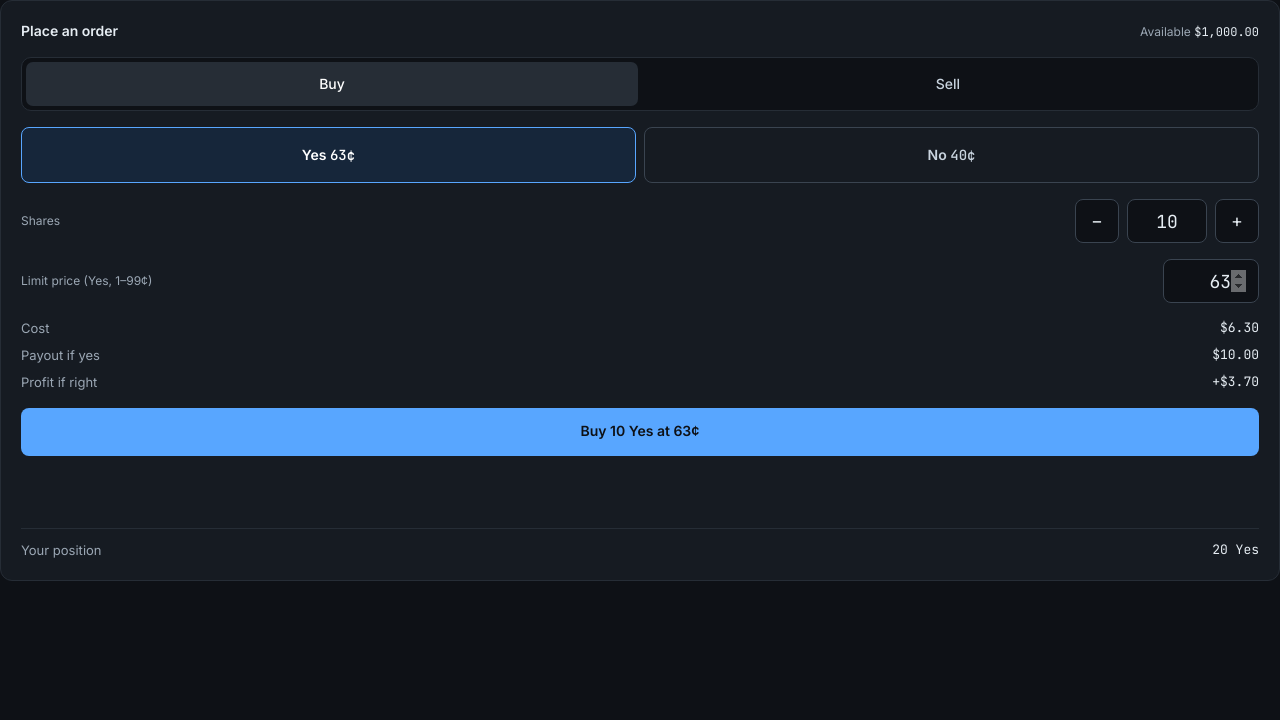
OrderTicket › selling YES hits the best bid and shows what you receive
Step 1. Click the button with test id "ticket-action-sell" → (948, 84), box left=642, top=62, right=1254, bottom=106
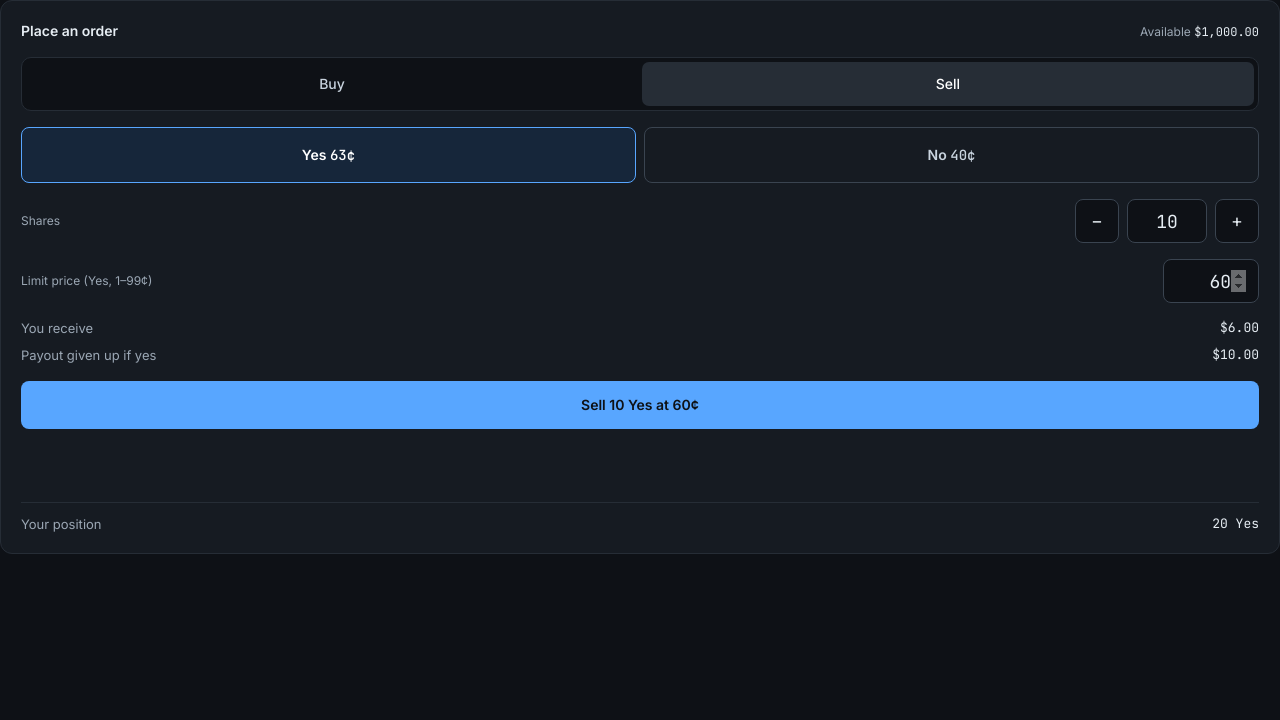
Check: the number field with test id "ticket-price" holds "60", box left=1163, top=259, right=1259, bottom=303
Check: the text with test id "ticket-profit" is gone
Check: the button with test id "ticket-submit" reads "Sell 10 Yes at 60¢", box left=21, top=381, right=1259, bottom=429
